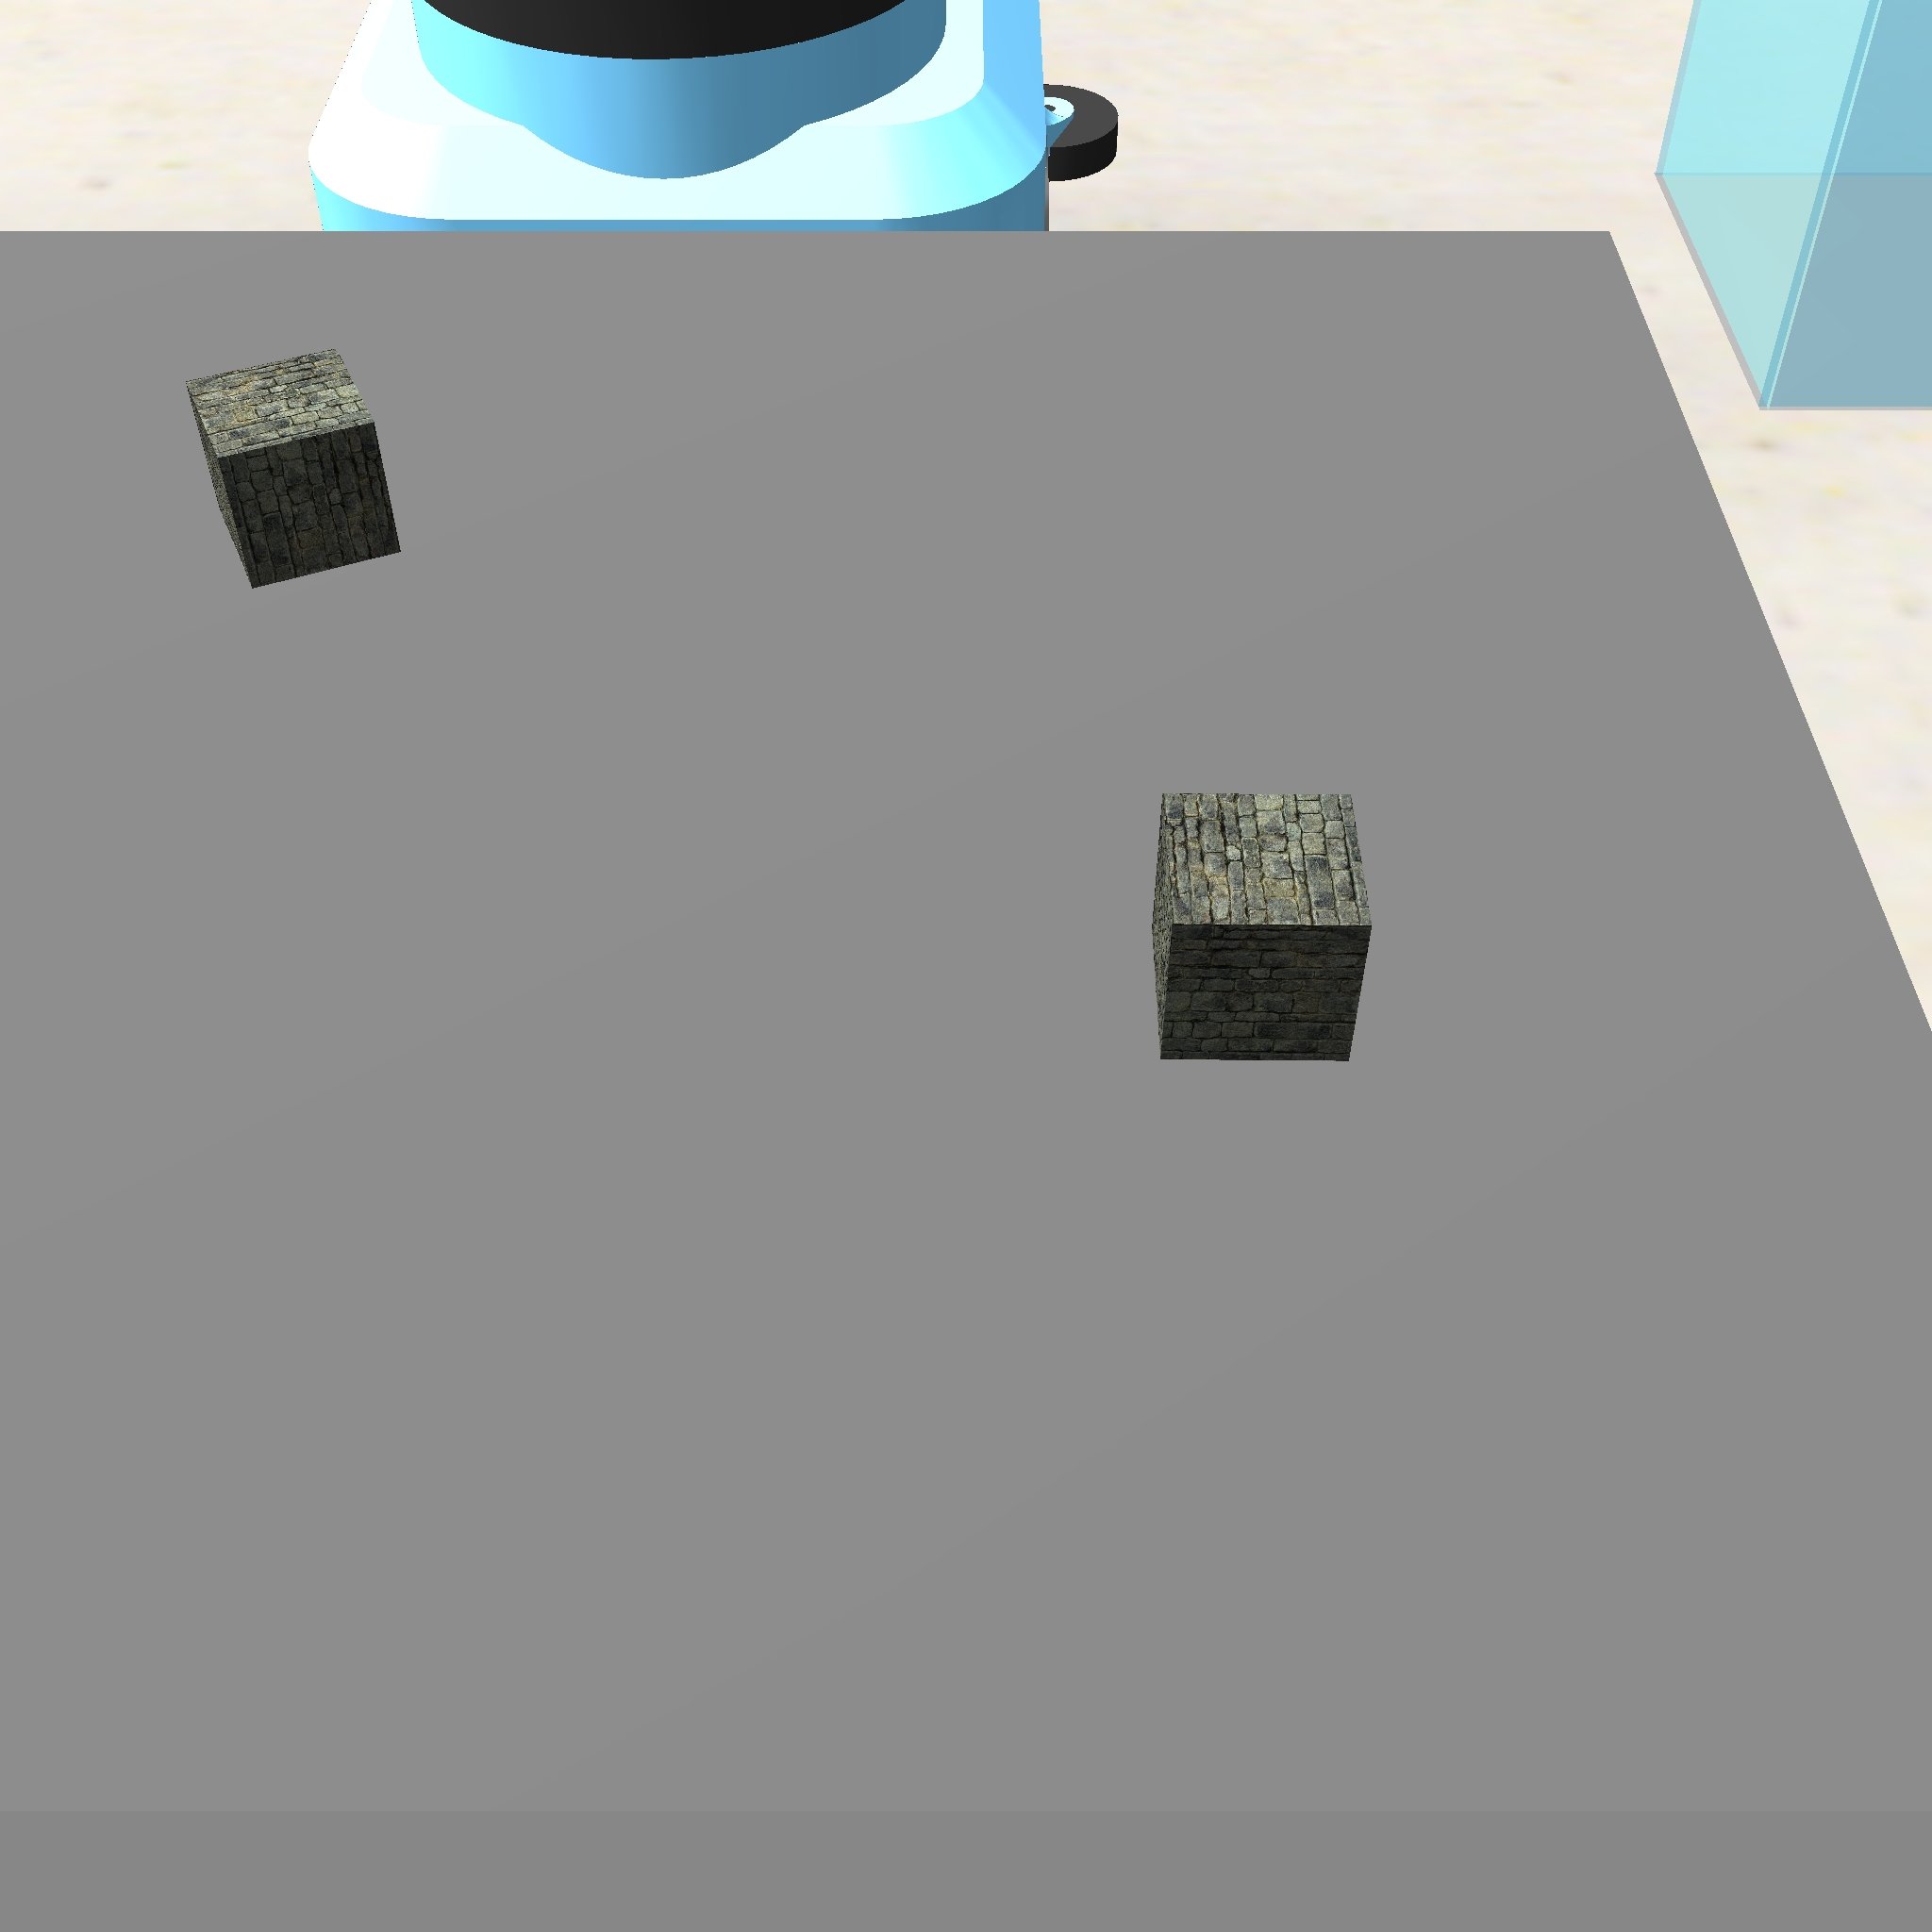cube: (1139, 777, 1382, 1072), (170, 340, 410, 594)
